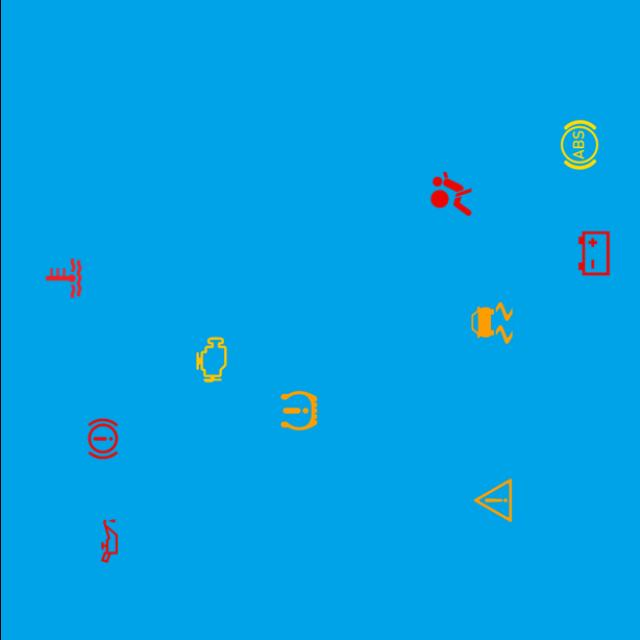Anti Lock Braking System: (552, 118, 606, 172)
Braking System Issue: (75, 412, 129, 466)
Charging System Issue: (566, 227, 620, 280)
Check Engine: (184, 332, 238, 387)
Electronic Stability Problem -ESP-: (464, 296, 518, 350)
Engine Overheating Warning Light: (36, 252, 90, 306)
Low Engine Oil Warning Light: (81, 514, 136, 568)
Low Tire Pressure Warning Light: (271, 383, 325, 438)
Master warning light: (465, 473, 519, 528)
SRS-Airbag: (423, 167, 478, 221)
